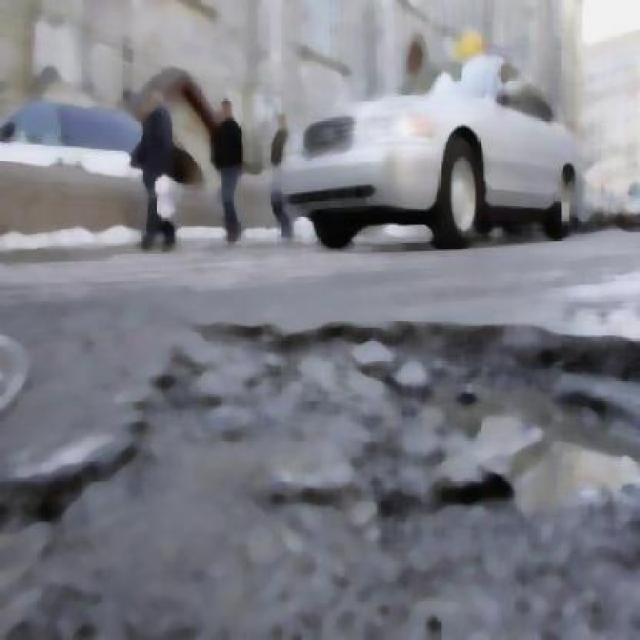Pothole: (391, 322, 638, 510)
